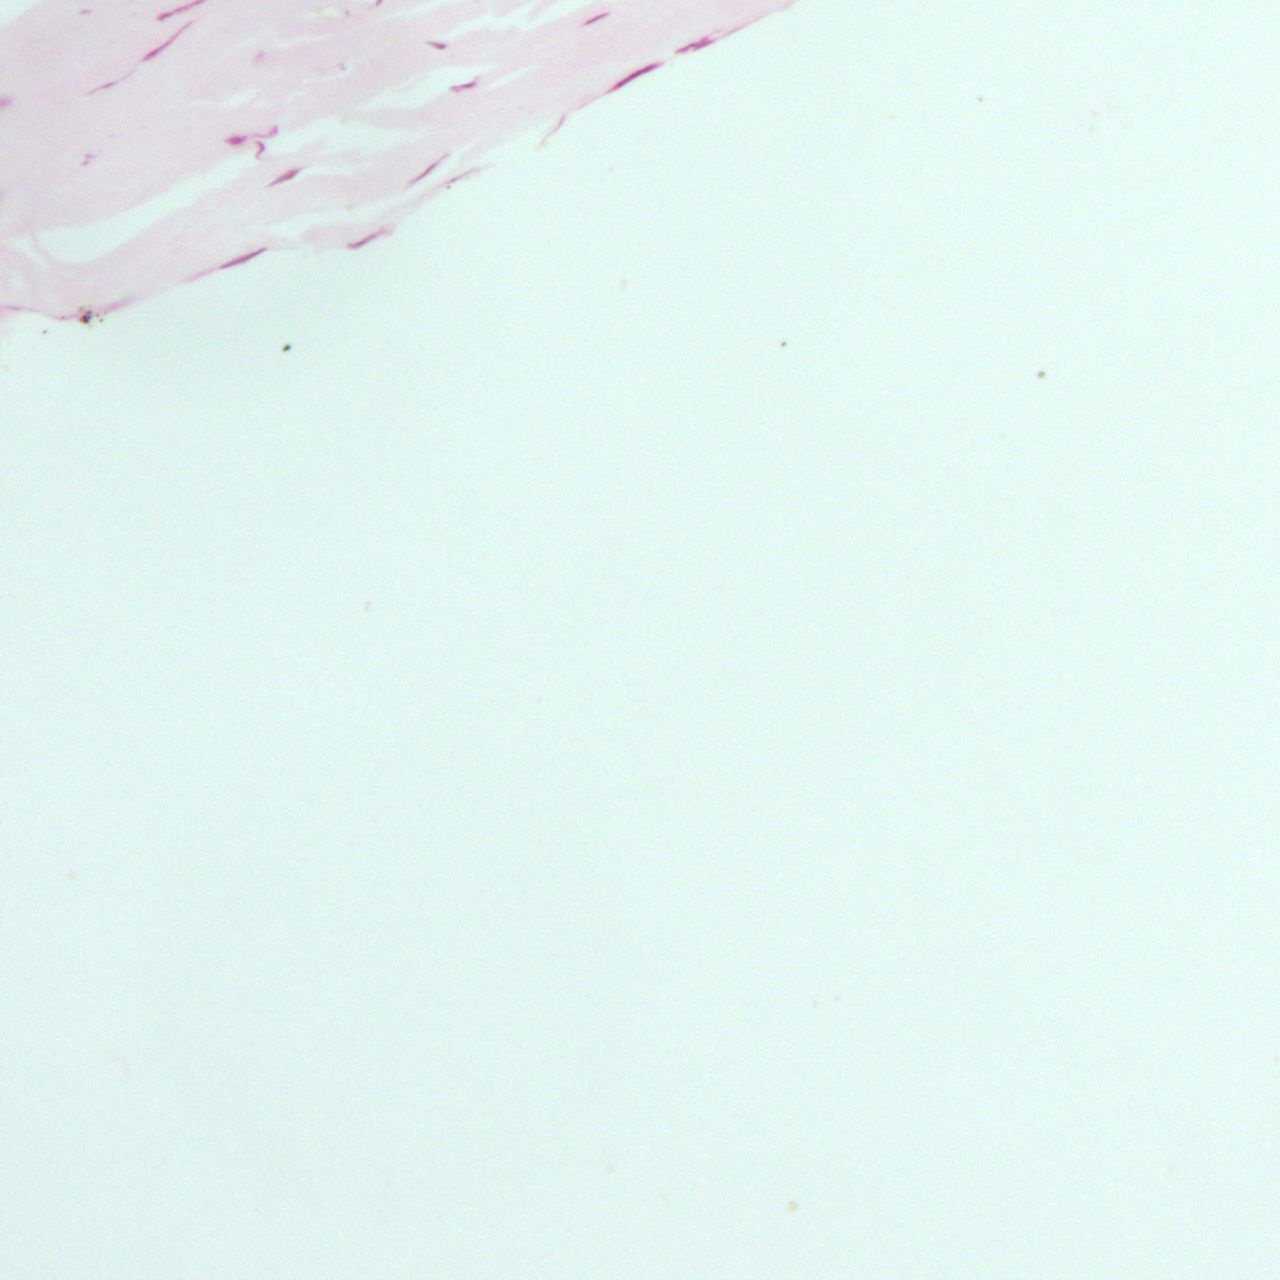dust: (81, 315, 93, 324), (280, 344, 291, 351), (780, 341, 787, 347), (1038, 371, 1045, 377), (42, 328, 48, 333), (99, 318, 104, 322), (87, 310, 91, 313)
nucleus-AC: (137, 19, 198, 64), (605, 55, 665, 95), (402, 148, 452, 191), (215, 240, 270, 275), (671, 28, 718, 61), (341, 223, 386, 256), (84, 69, 137, 97), (263, 160, 307, 191), (576, 4, 616, 32), (422, 33, 450, 56), (247, 44, 271, 69), (448, 76, 480, 94), (251, 126, 279, 138), (251, 140, 266, 161), (225, 132, 246, 145), (0, 98, 12, 109), (80, 9, 94, 14)
